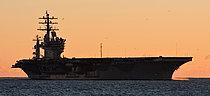MIL_Ship: (10, 8, 193, 82)
